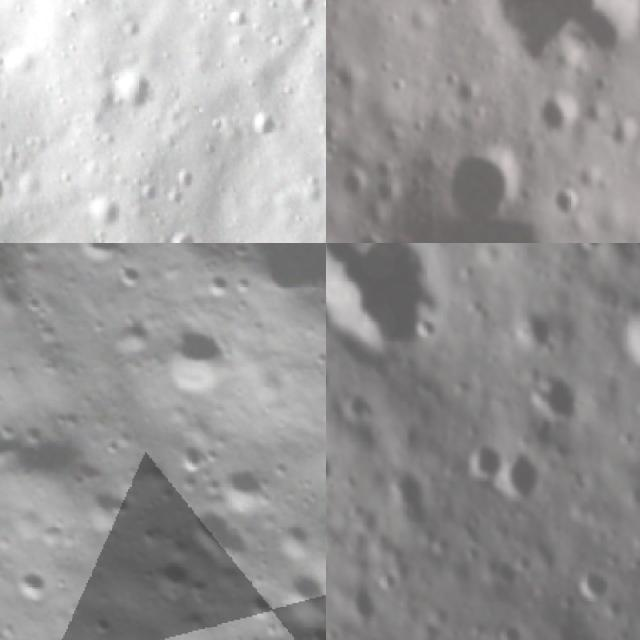crater: (460, 0, 640, 78), (326, 243, 455, 350), (152, 316, 233, 398), (235, 243, 326, 309), (183, 502, 259, 578), (439, 150, 521, 220), (137, 551, 199, 612), (104, 64, 169, 121), (270, 557, 326, 623), (218, 454, 276, 512), (526, 363, 584, 420), (502, 443, 548, 506), (510, 296, 560, 349), (66, 243, 143, 277), (458, 431, 503, 484), (618, 277, 640, 371), (239, 107, 288, 149), (551, 180, 594, 227), (84, 190, 130, 232), (233, 586, 275, 628), (9, 563, 50, 604), (572, 558, 608, 600), (115, 15, 152, 49), (133, 177, 169, 210), (166, 164, 204, 195), (0, 165, 20, 211), (295, 618, 326, 640), (313, 283, 326, 323), (170, 228, 203, 243)
